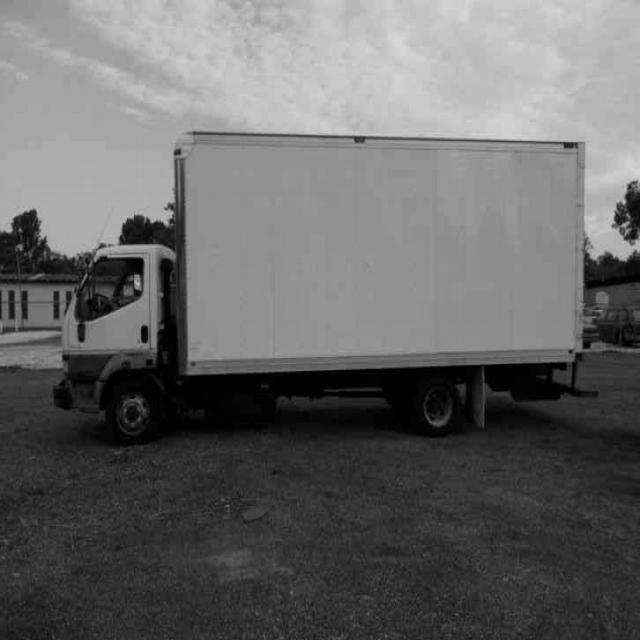truck: (34, 221, 203, 455)
